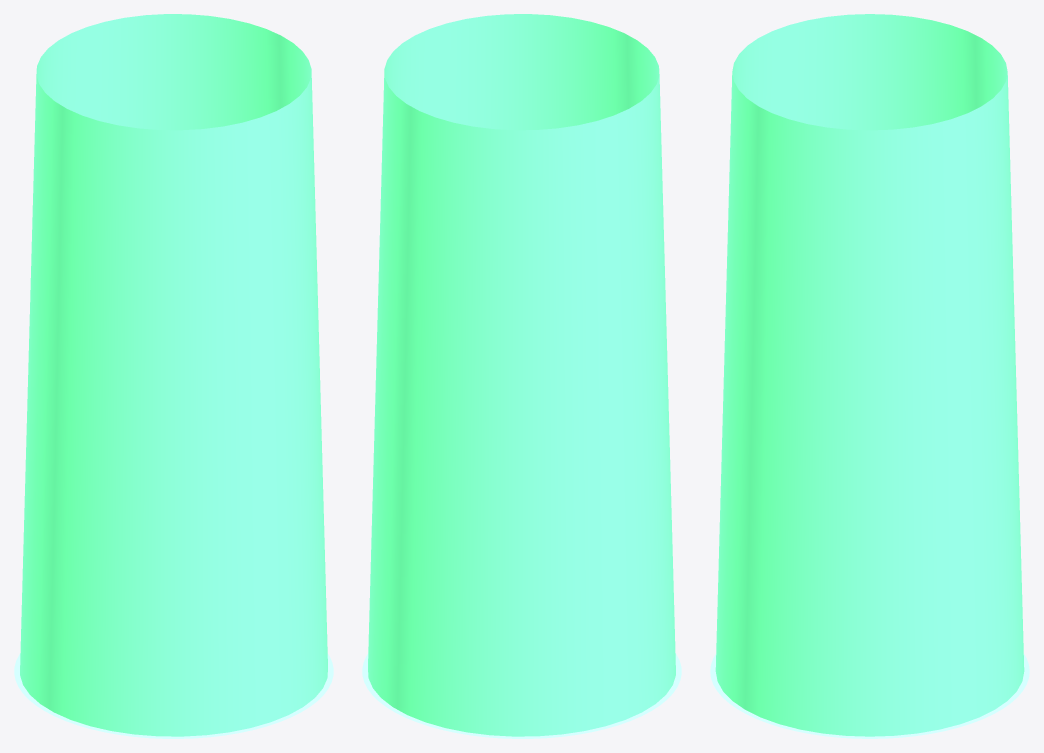
File: zone.glb
3 renders of one model, left to right at view 1: azimuth 30°, elevation 25°; view 2: azimuth 150°, elevation 25°; view 3: azimuth 270°, elevation 25°, orthographic.
Visible parts, largest first — view 1: zone.glb; view 2: zone.glb; view 3: zone.glb.
Boxes of the visible parts, box(x1,y1,x2,y2) form: zone.glb: box(14, 14, 333, 738); zone.glb: box(362, 14, 681, 738); zone.glb: box(710, 14, 1029, 738).
Bounding box in the file's own units: 1.16 × 2.4 × 1.16.
